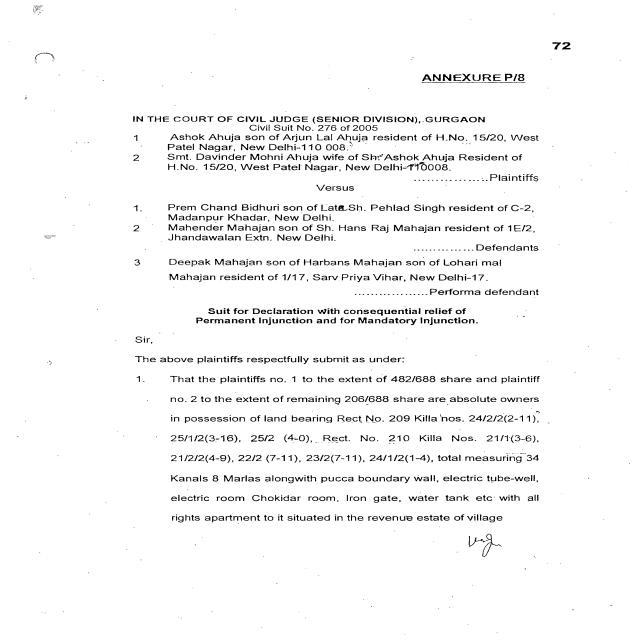page-number: (462, 0, 638, 57)
